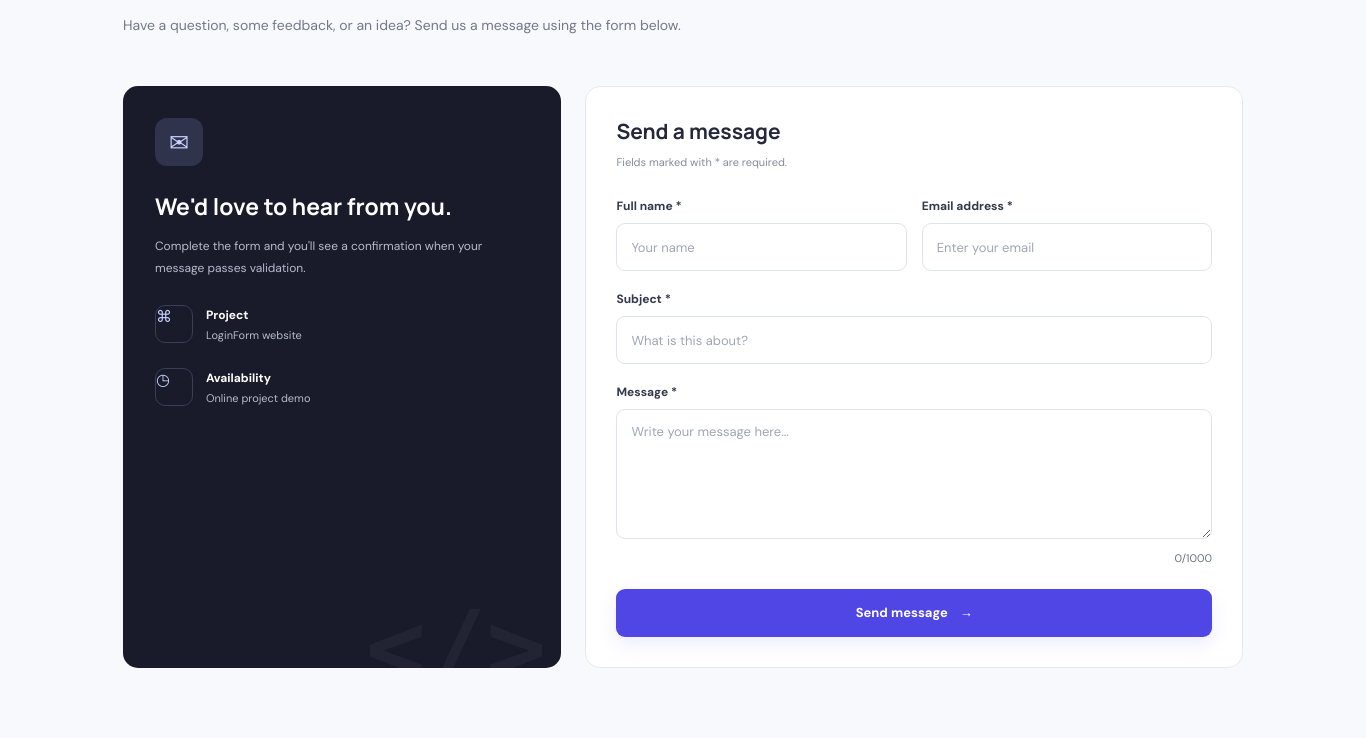
Test case: Contact page › reports every empty field
The image size is (1366, 738).
(page scrolled)
Click the button "Send message →" at (914, 613), box [616, 589, 1212, 637]
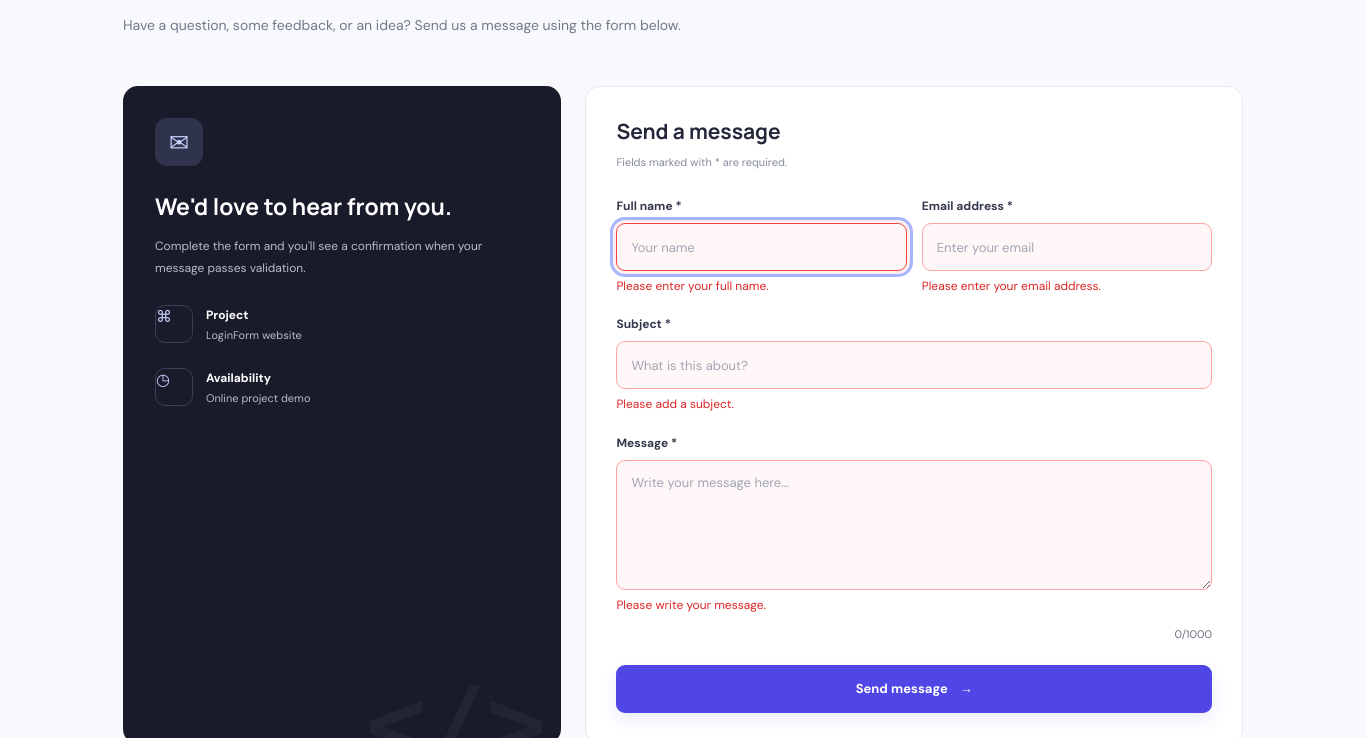
Expected: the text "Please enter your full name." is shown, [616, 278, 769, 294]
Expected: the text "Please enter your email address." is shown, [922, 278, 1101, 294]
Expected: the text "Please add a subject." is shown, [616, 396, 734, 412]
